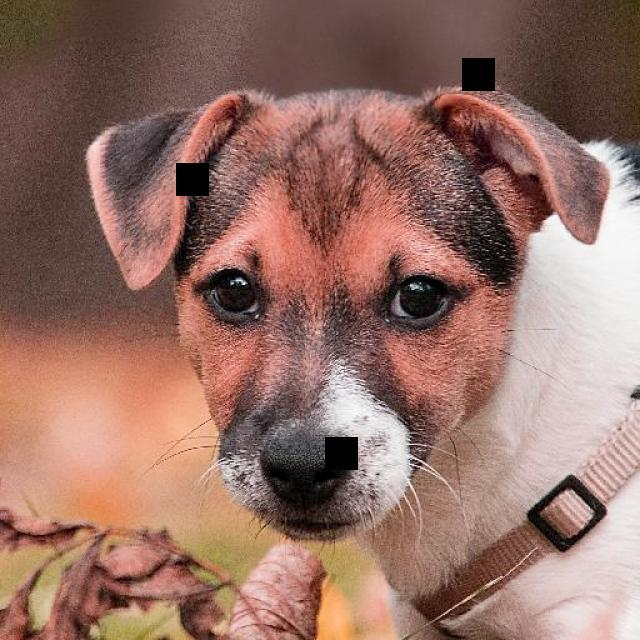puppy-dog: (85, 84, 640, 640)
